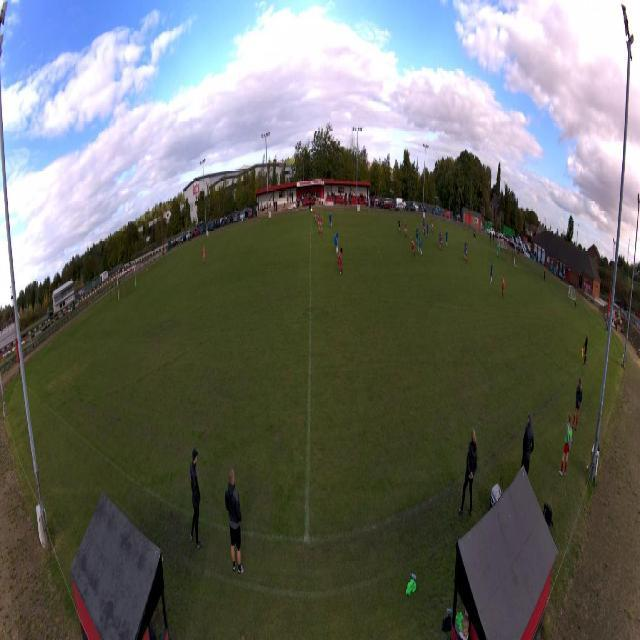ball: (414, 242, 415, 246)
player: (337, 246, 343, 277), (417, 232, 423, 258), (411, 234, 417, 260), (334, 228, 339, 256), (500, 272, 505, 300), (317, 212, 321, 238), (319, 213, 323, 238), (489, 261, 493, 286), (416, 224, 420, 246), (465, 243, 469, 265), (463, 239, 467, 261), (202, 245, 206, 265), (404, 221, 408, 240), (398, 217, 402, 236), (426, 221, 430, 240), (329, 211, 333, 228), (313, 207, 317, 224), (497, 242, 501, 259), (440, 232, 443, 252), (445, 229, 448, 248), (439, 231, 442, 250), (431, 218, 434, 235), (422, 217, 425, 234), (424, 220, 426, 238)
